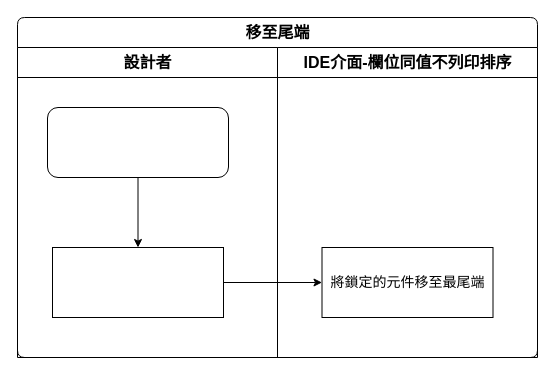
Some shapes in this 555 by 375 pixel diagram are drawn without their labels. Each missing label, with the centre of its shape:
執行按鈕: 移至尾端: pixel 138 282
開啟: 報表規格定義: pixel 137 142
